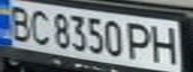0: (103, 17, 127, 57)
3: (66, 12, 87, 53)
5: (84, 15, 106, 55)
8: (48, 10, 72, 49)
B: (0, 2, 36, 43)
C: (24, 7, 54, 46)
H: (148, 22, 184, 65)
P: (124, 19, 157, 61)
